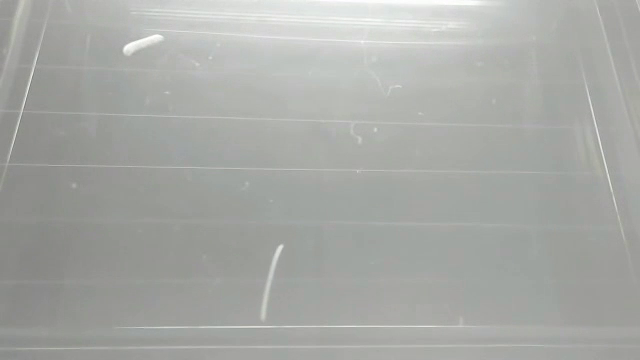alpha: (258, 242, 286, 324), (120, 33, 167, 59)
